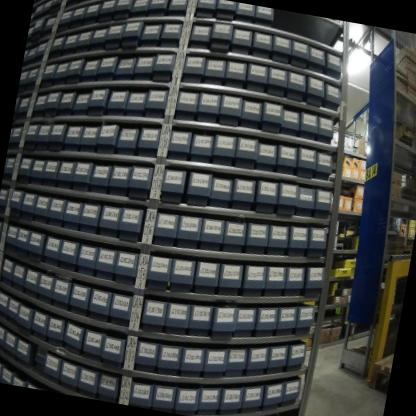pallet: (369, 341, 395, 403)
